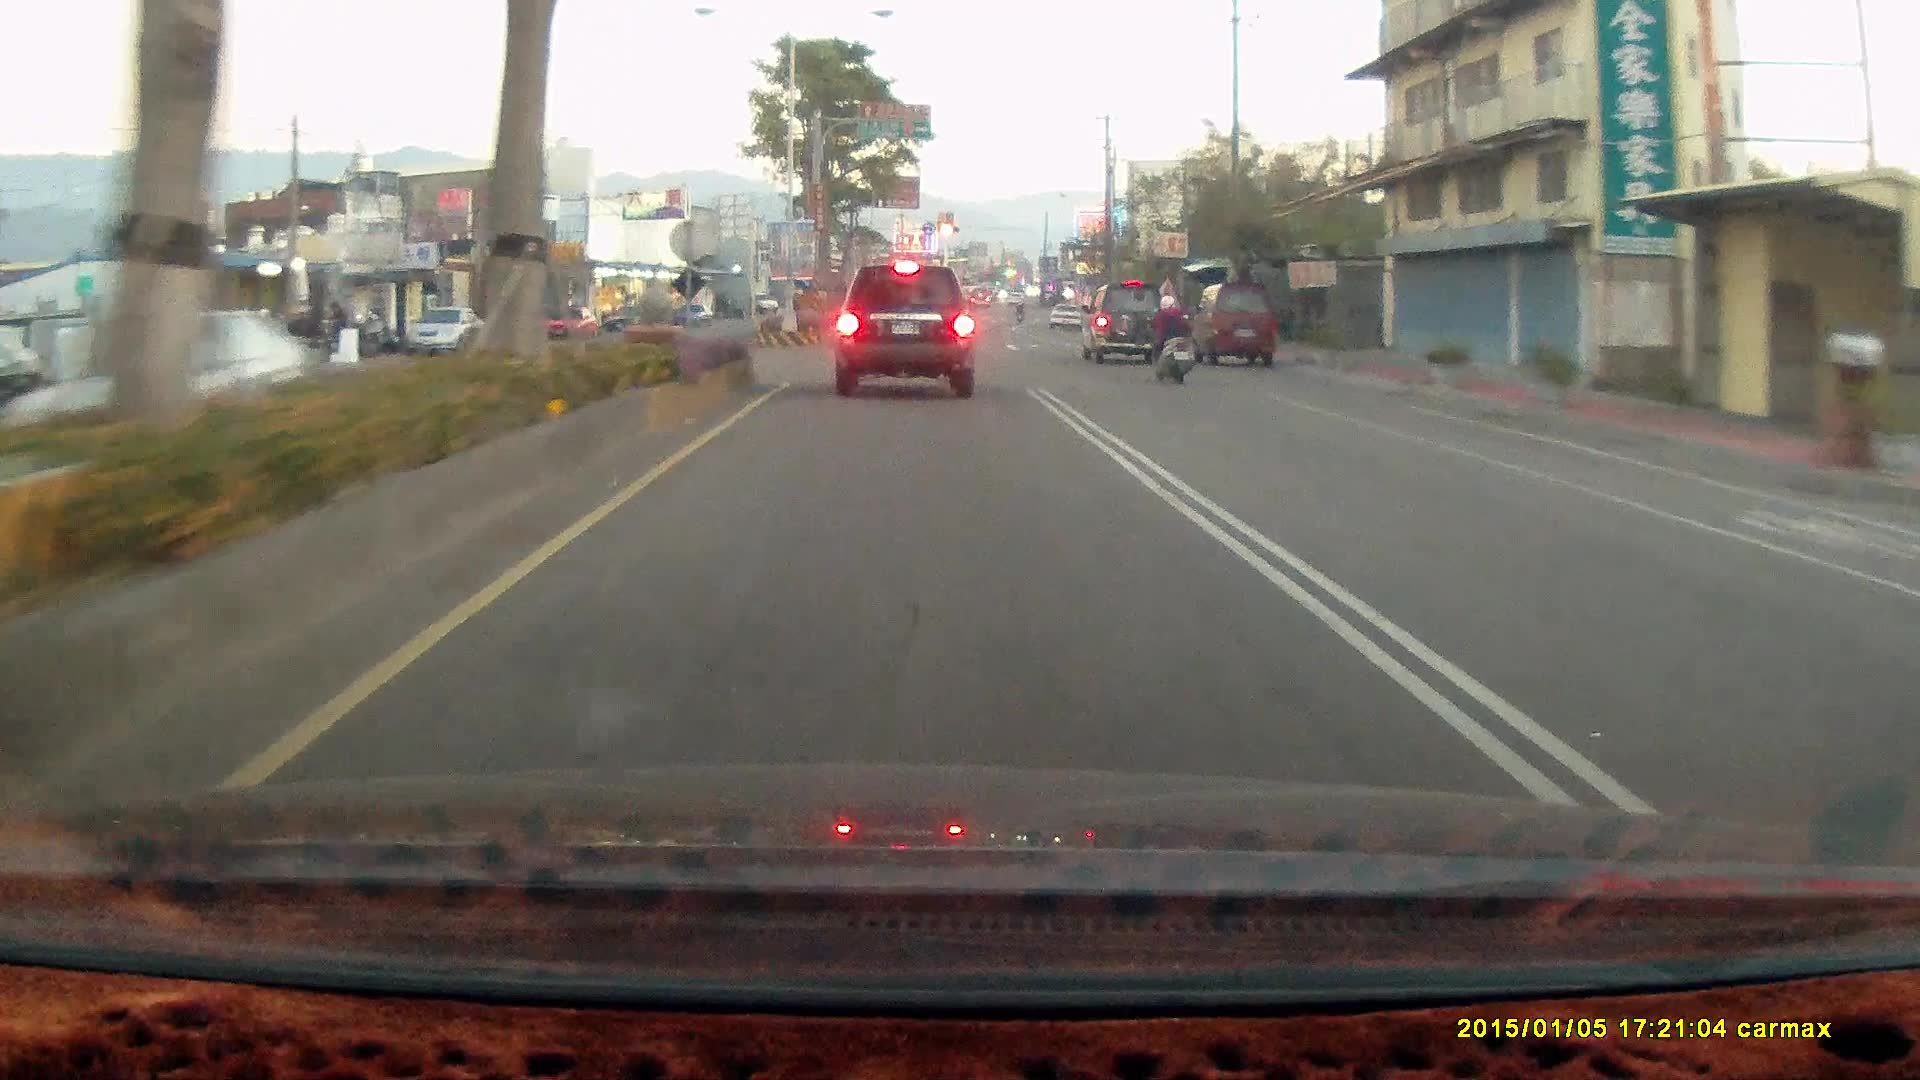rider: (1137, 287, 1200, 390), (1139, 291, 1190, 383)
vehicle: (831, 257, 986, 398), (834, 264, 972, 395), (1084, 281, 1180, 369), (1189, 282, 1278, 375), (1077, 280, 1168, 363), (1192, 282, 1275, 364), (400, 307, 489, 357), (403, 304, 486, 353)
